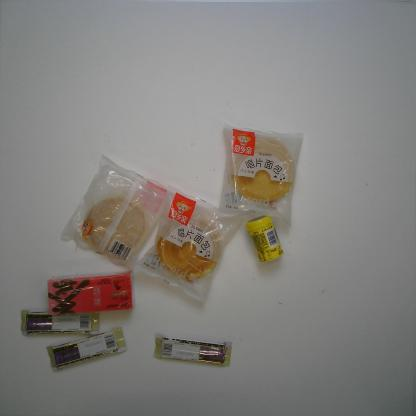Chocolate: (46, 326, 127, 372), (153, 333, 233, 367), (20, 309, 100, 336)
Dessert: (134, 184, 245, 304), (59, 154, 168, 270), (217, 122, 304, 230)
Gum: (245, 215, 284, 264)
Instant Drink: (47, 270, 133, 316)
